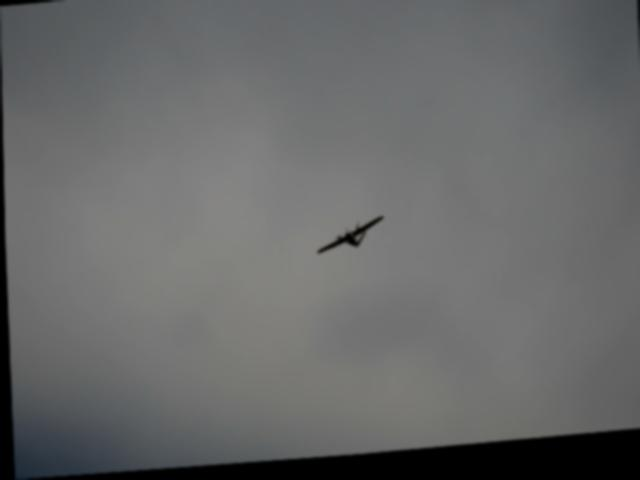plane: (315, 220, 384, 260)
